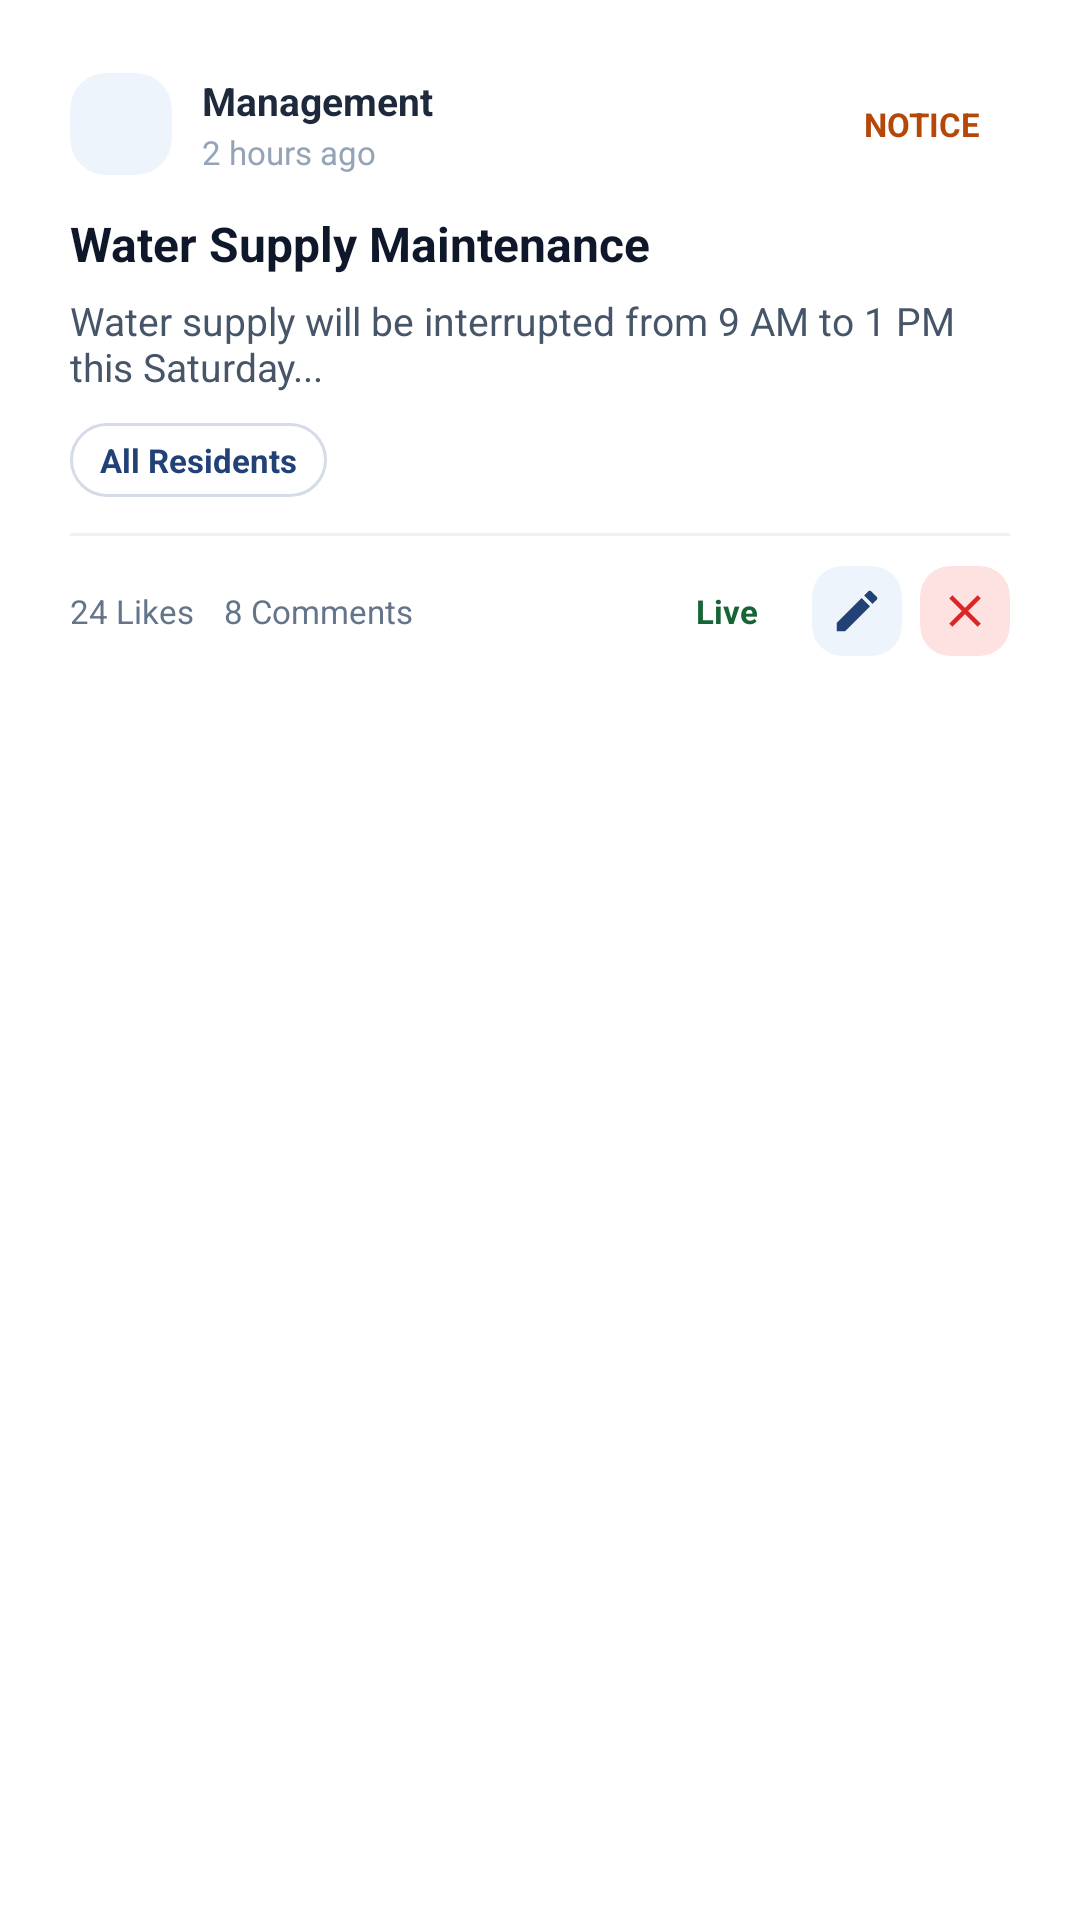

Icon click points for this 1080x1920 phone screenshot, format (x=x, y=y):
close: (x=965, y=611)
edit: (x=857, y=611)
